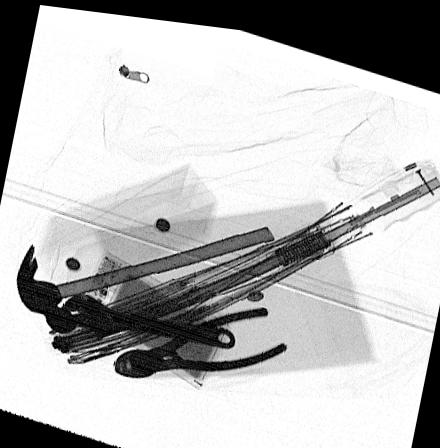Hammer: (15, 219, 274, 333)
Pliers: (113, 301, 289, 375)
Powerbank: (75, 244, 228, 386)
Wrench: (61, 293, 236, 343)
